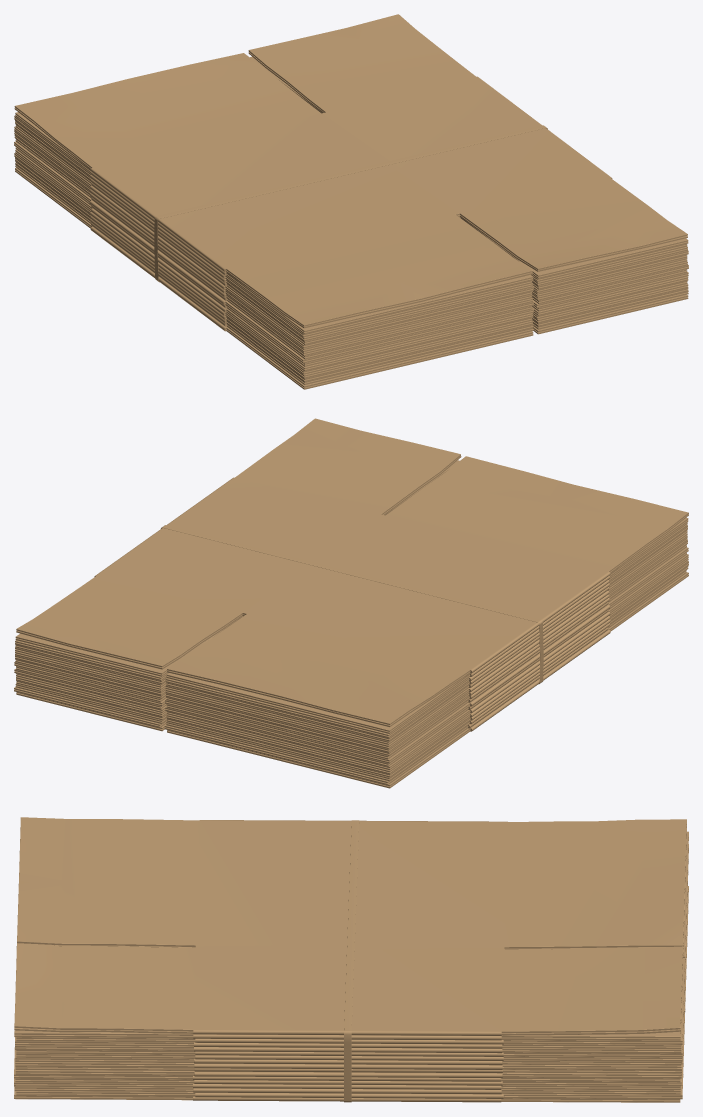
The model's file is box_cardboard_folded_brown_a02.glb.
The picture shows the model from 3 angles, top to bottom: view 1: azimuth 30°, elevation 25°; view 2: azimuth 150°, elevation 25°; view 3: azimuth 270°, elevation 25°; orthographic projection. The views are drawn at different scales.
Bounding box in the file's own units: 0.6711 × 0.1103 × 0.8933.
